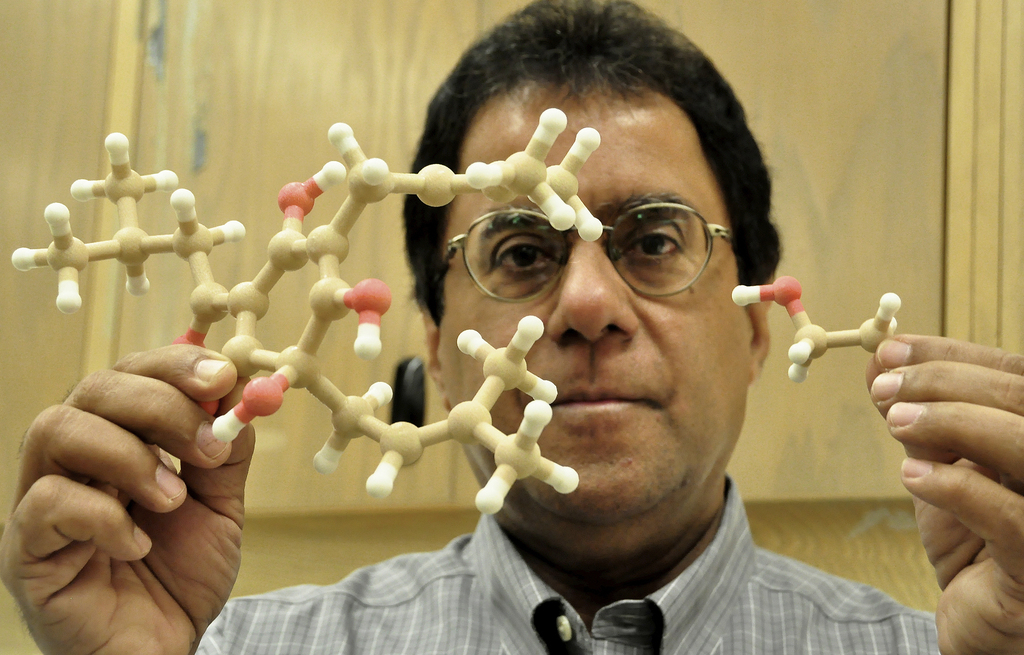Human_hand: (0, 342, 257, 654), (824, 291, 1024, 599)
